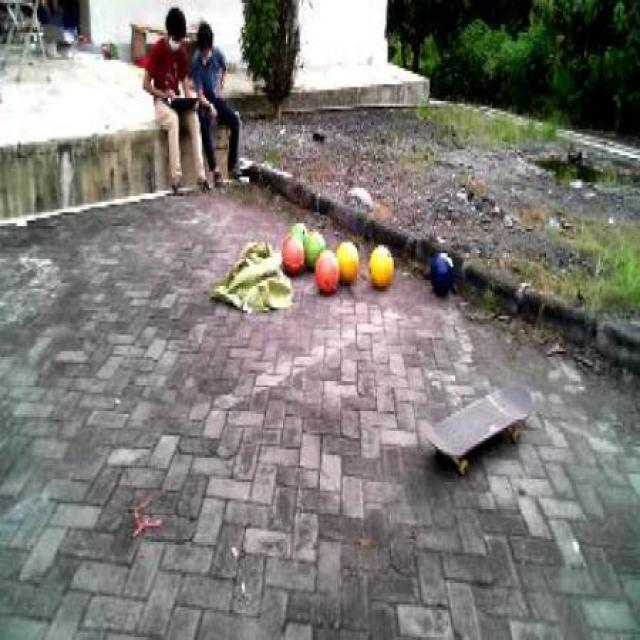buoy: (422, 238, 467, 304), (366, 238, 401, 298), (311, 241, 342, 301), (277, 220, 308, 278), (332, 235, 361, 280), (300, 220, 327, 268)
